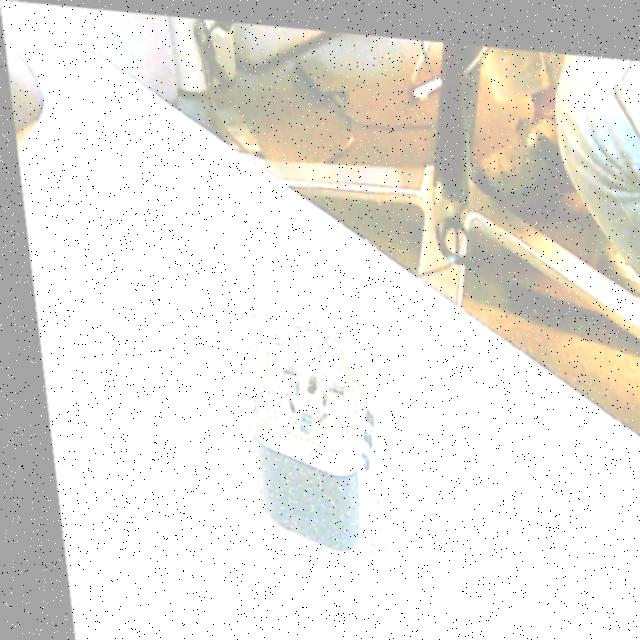adapter: (226, 306, 379, 549)
